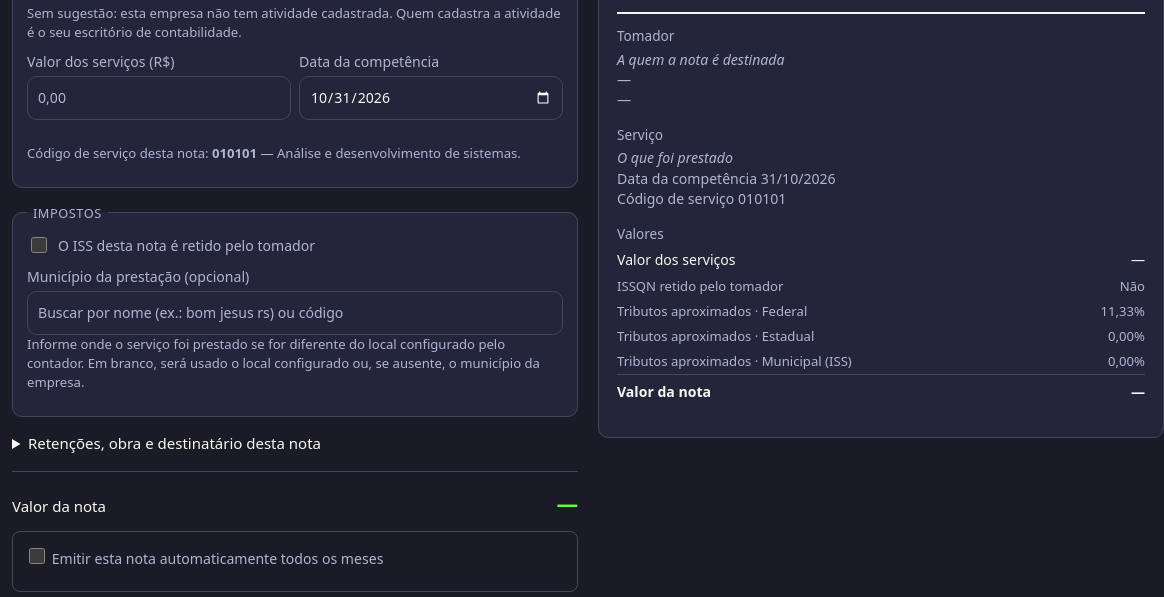
Test: ⚠⚠ A ALÍQUOTA DE ISS SÓ APARECE COM A RETENÇÃO MARCADA › ⚠⚠ ZERO também é recusado, e com frase própria — `required` do HTML o aceita e o servidor não
(page scrolled)
Click the checkbox with id "emitir-iss-retido" at (39, 245), box [31,237,47,253]
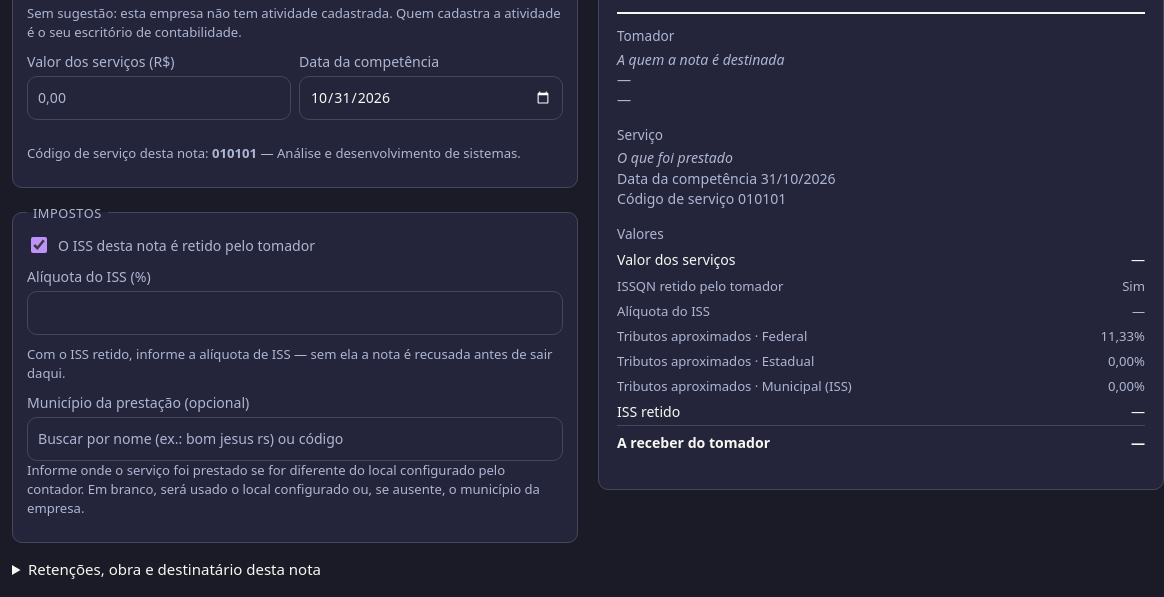
Type "0" into the number field with id "emitir-aliquota" at (295, 313), box [27,291,563,335]
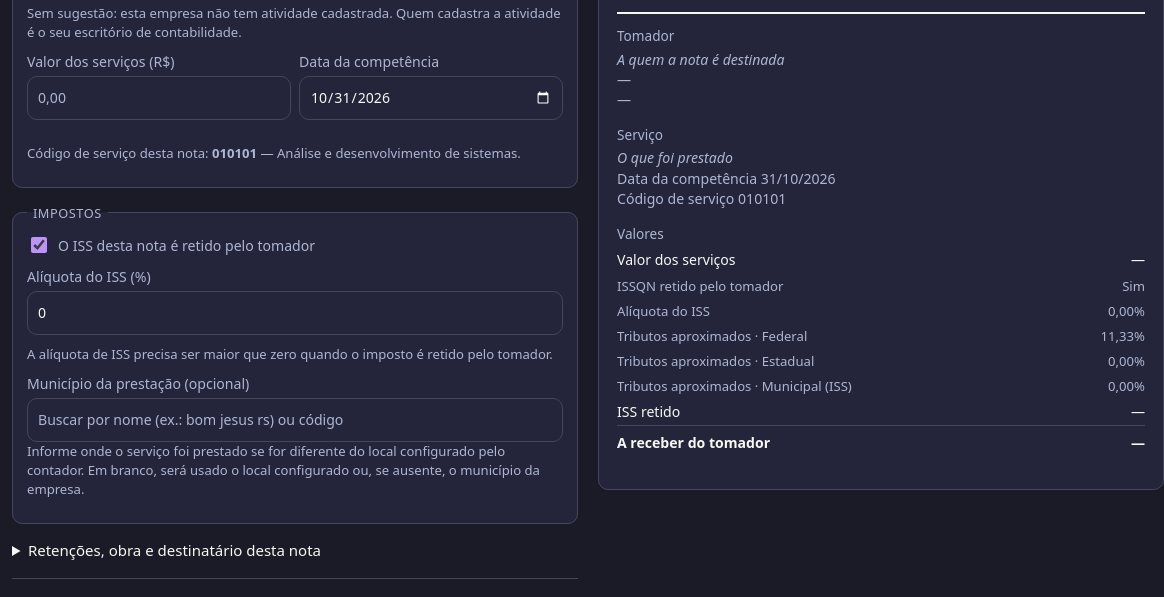
Check: the text "maior que zero" is shown, box [27,345,553,363]
